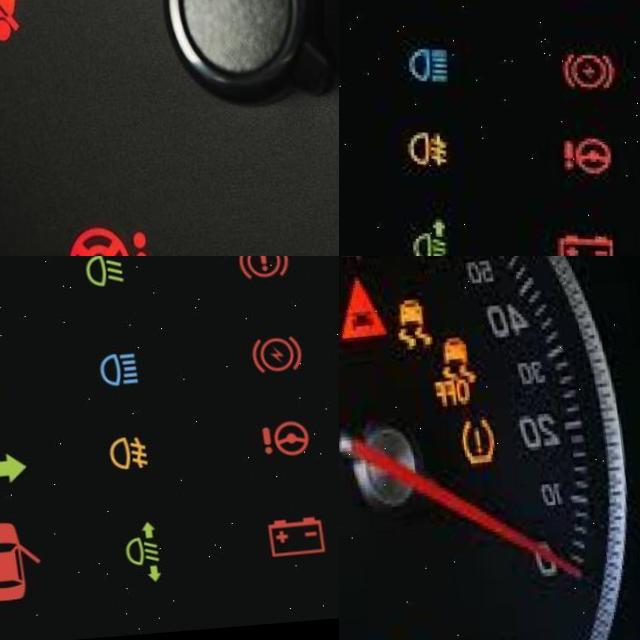Electronic Power Steering: (50, 226, 145, 256)
Electronic Power Steering Warning: (549, 141, 610, 188), (249, 425, 303, 466)
